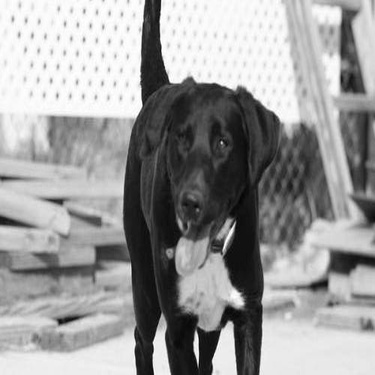dog: (108, 1, 290, 370)
